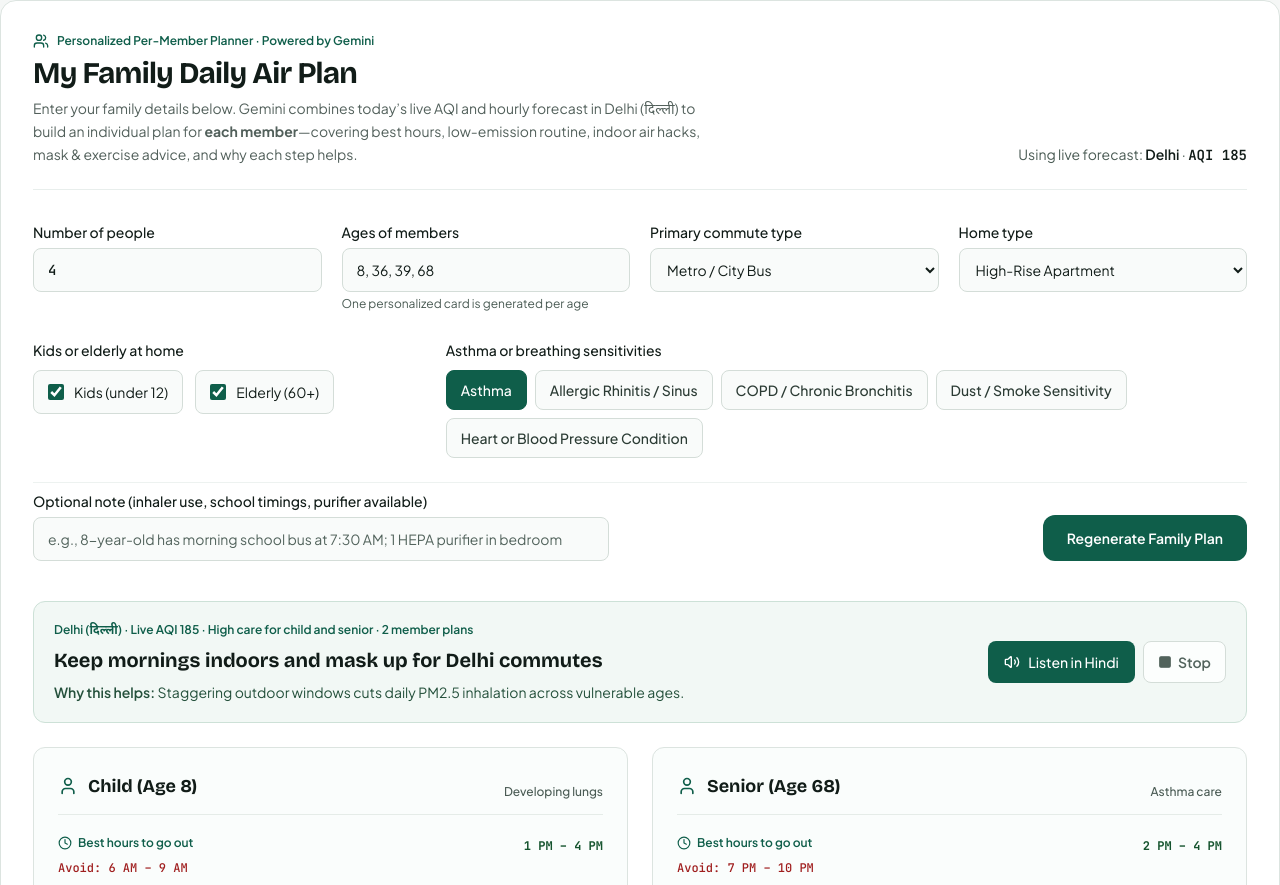
Test: FamilyPlanSection — My Family form and plan display › supports Listen in Hindi (hi-IN) and Stop controls on the family plan display
This screenshot has width=1280, height=885.
Check: the button with aria-label "Stop reading Hindi plan" is disabled, box [1143,641,1226,683]
Click the button "Listen in Hindi" at (1062,662), box [988,641,1135,683]
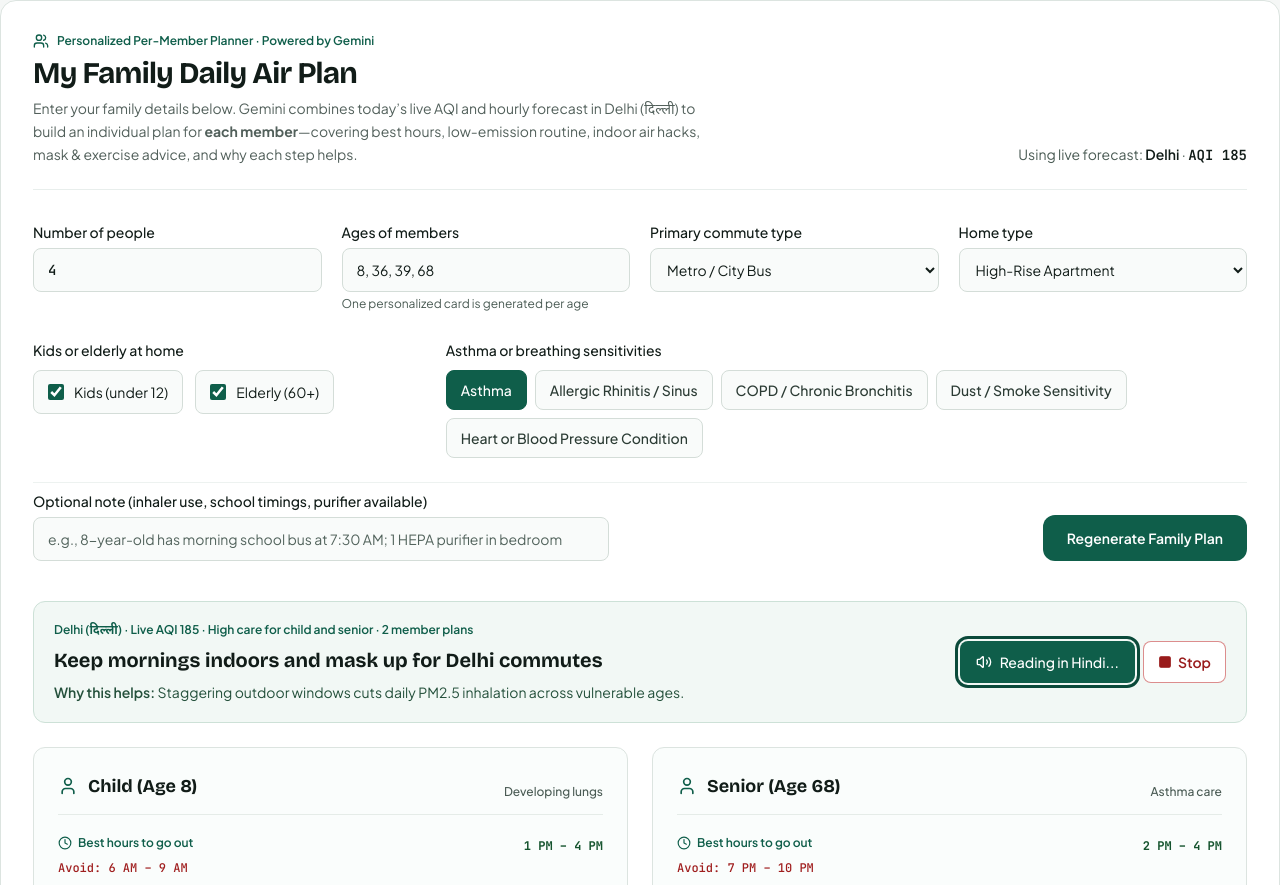
Check: the button with aria-label "Stop reading Hindi plan" is enabled
Click the button with aria-label "Stop reading Hindi plan" at (1184,662), box [1143,641,1226,683]
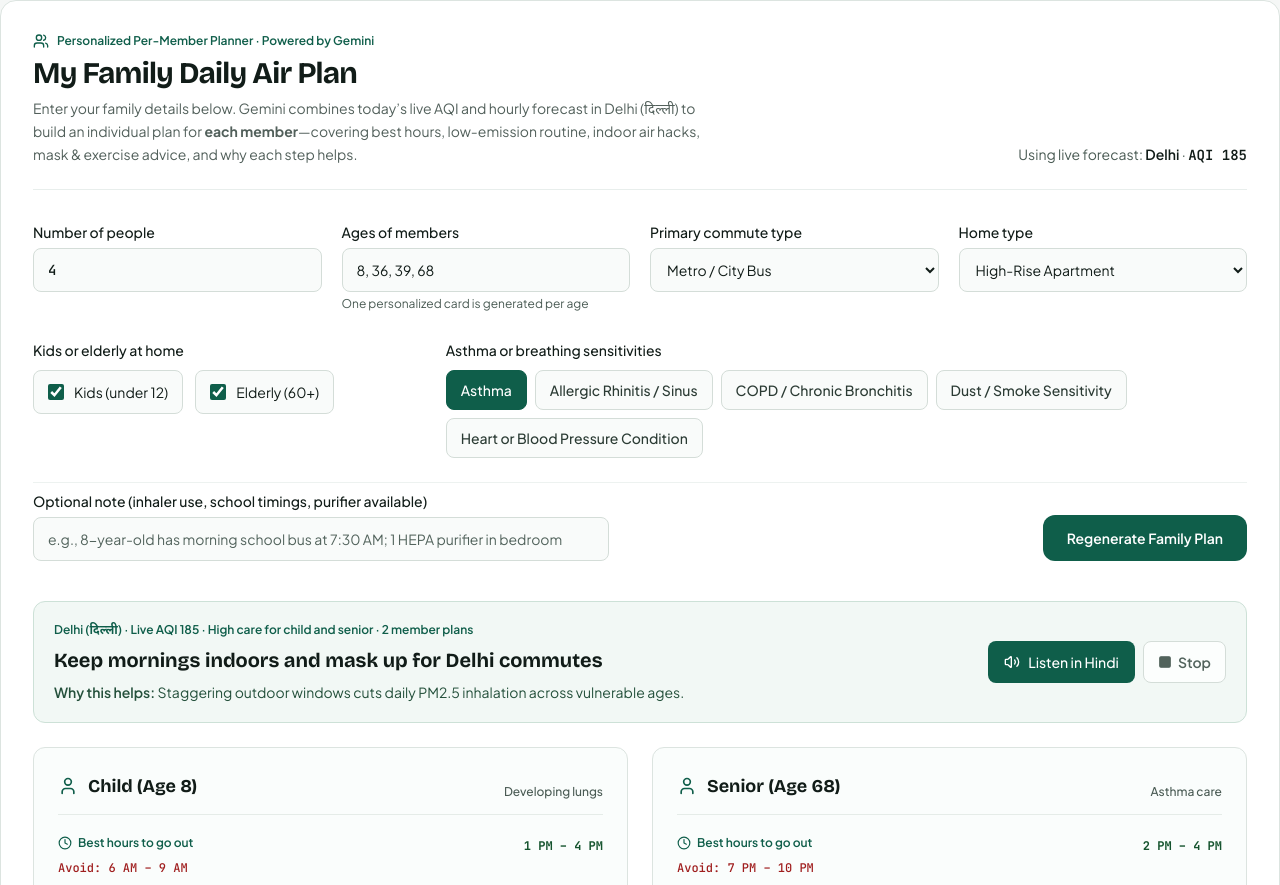
Check: the button with aria-label "Stop reading Hindi plan" is disabled, box [1143,641,1226,683]
